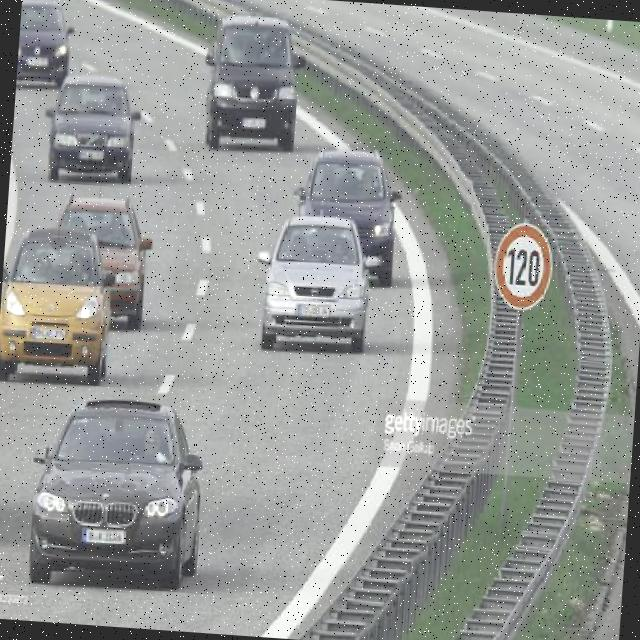Ograniczenie predkosci do 120: (492, 220, 554, 314)
